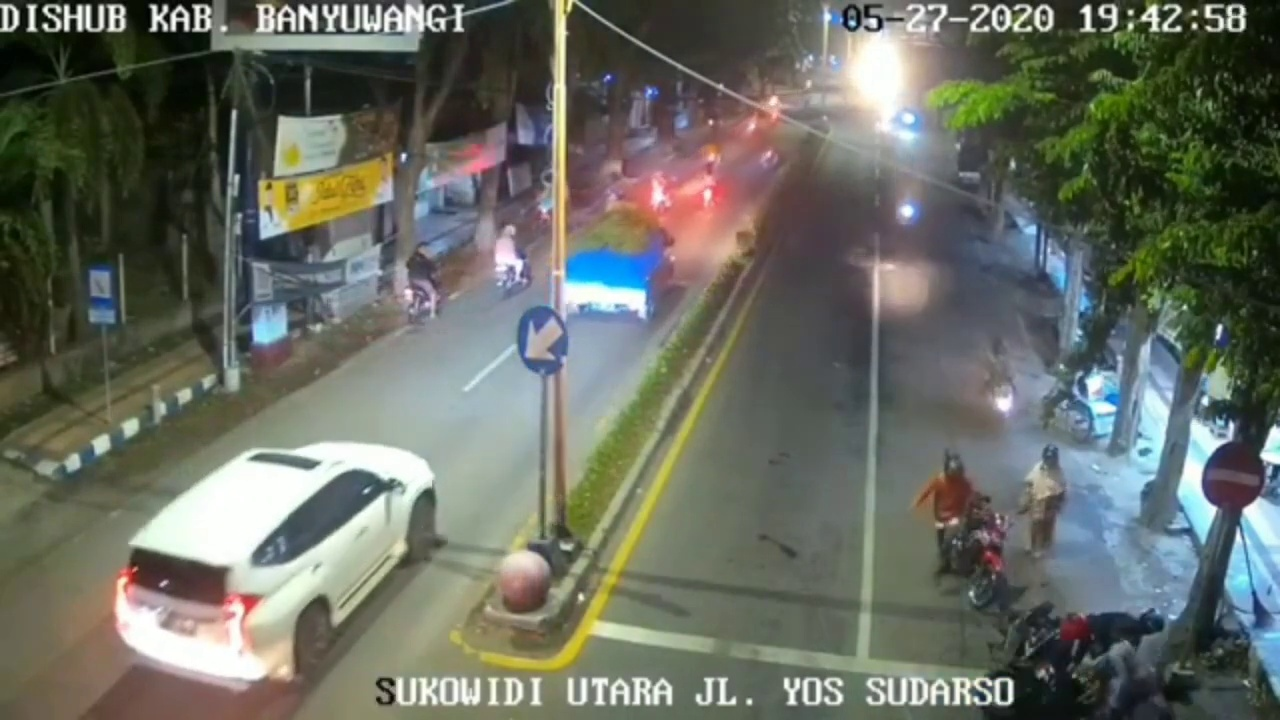car: (117, 446, 440, 686), (563, 214, 682, 324), (932, 448, 969, 579)
motorbike: (403, 244, 444, 326), (493, 226, 533, 294), (650, 170, 672, 219), (698, 161, 720, 209)
